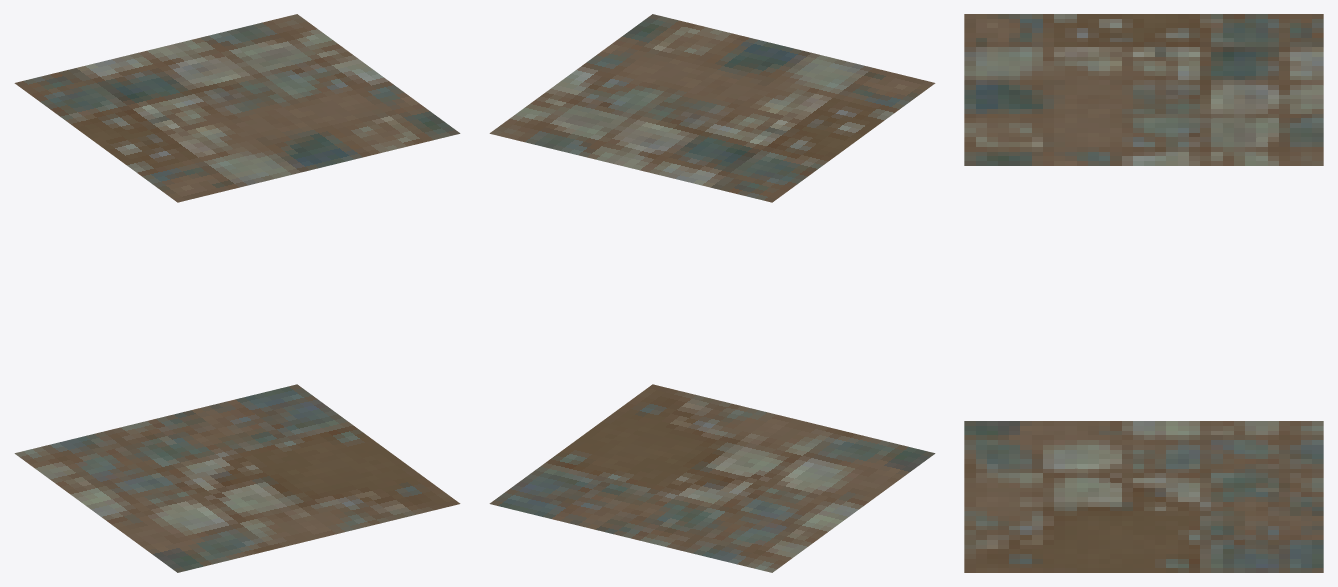
File: floor.glb
The picture shows the model from 3 angles, left to right: view 1: azimuth 30°, elevation 25°; view 2: azimuth 150°, elevation 25°; view 3: azimuth 270°, elevation 25°; orthographic projection. The views are drawn at different scales.
Parts seen in each view (by area): view 1: floor; view 2: floor; view 3: floor.
Boxes of the visible parts, left/top/right/bottom form: floor: left=14, top=14, right=460, bottom=572; floor: left=489, top=14, right=935, bottom=572; floor: left=964, top=14, right=1323, bottom=572.
Bounding box in the file's own units: 2 × 2.5 × 2.
1 material, 1 textured.
